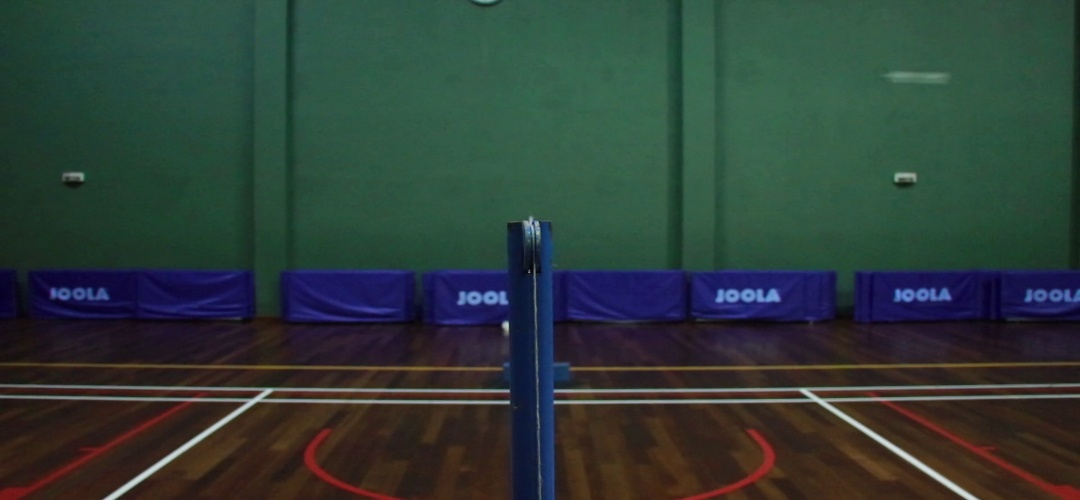c1: (231, 393, 276, 413)
c2: (799, 396, 849, 409)
net_level: (505, 221, 555, 291)
shuttle: (881, 67, 952, 85)
